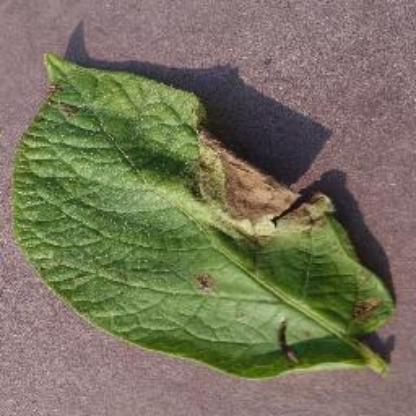Late-Blight: (10, 45, 398, 379)
